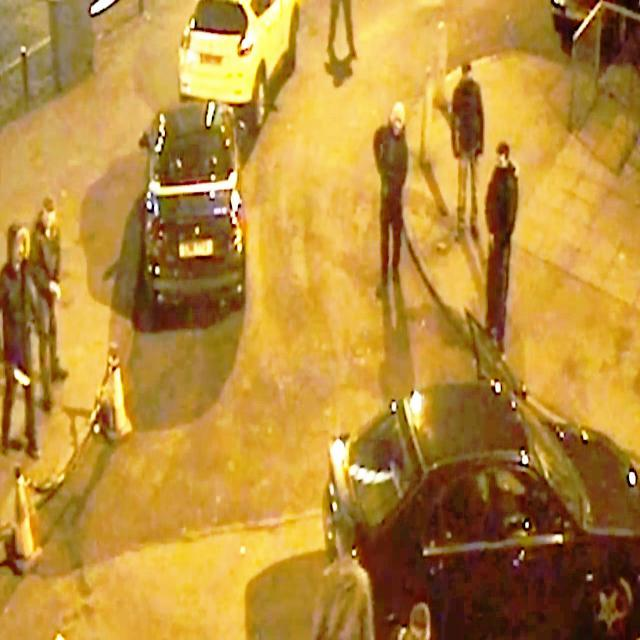Knife: (8, 358, 42, 398)
